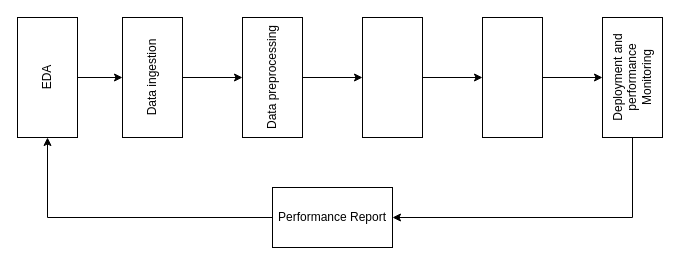
Image size: 680x265. Some labels were removed from this diagram. Here are the shapes that lost their labels. From the top down, the centre of each, then its label:
At pixel 392 77: "Data modeling".
At pixel 512 77: "Models Training".
